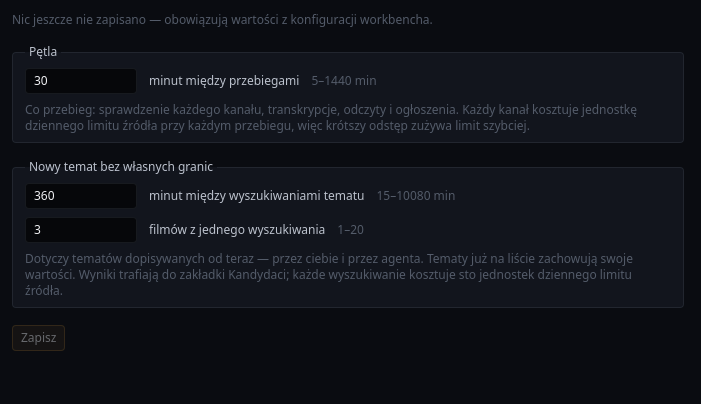
Scenario: SettingsPanel › keeps the module's reason on screen when it refuses the values
This screenshot has width=701, height=404.
Step 1. Replace the text in the field labelled "minut między przebiegami 5–1440 min" with "1" → point(81, 81), box [25, 68, 137, 94]
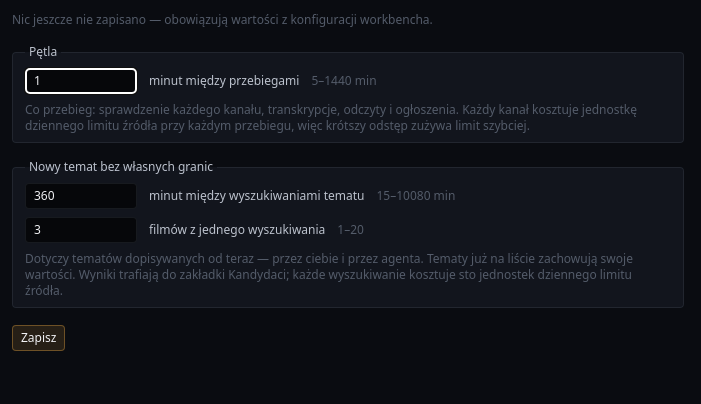
Step 2. Click the button "Zapisz" → point(39, 338), box [12, 325, 66, 351]
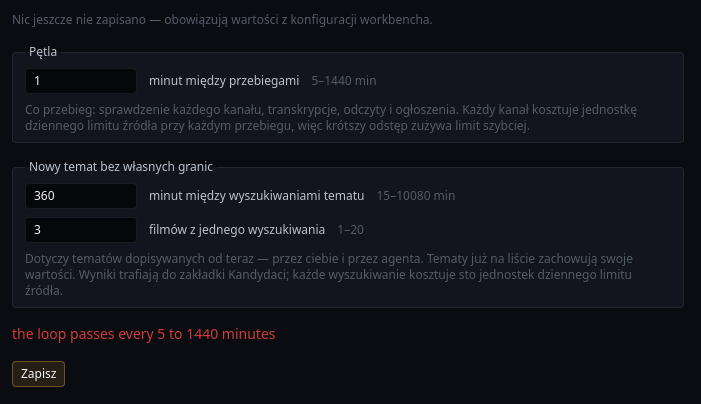
Now the message reads "the loop passes every 5 to 1440 minutes", box [12, 324, 276, 343]
